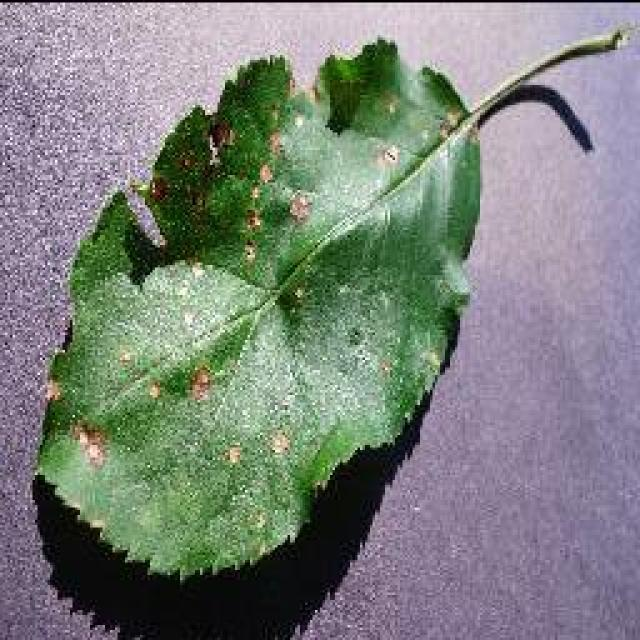Black_rot: (30, 22, 638, 582)
